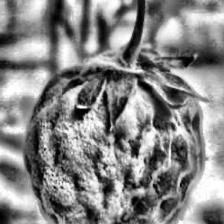Gray Mold: (22, 24, 210, 224)
